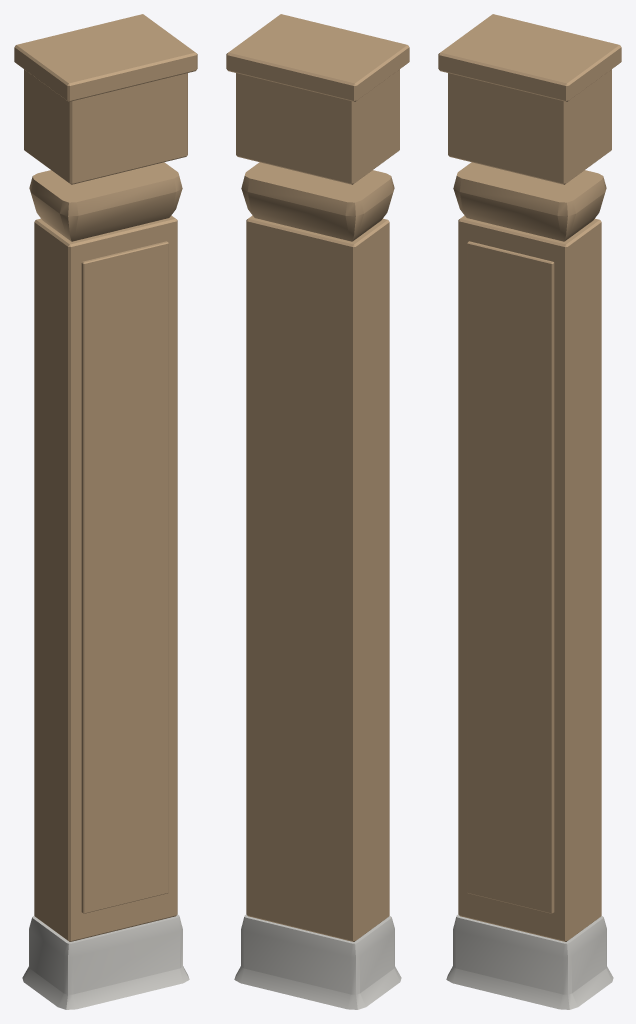
Rendered from bakery-and-cafe-shopfront-pilaster-8e878146__22226.glb.
3 renders of one model, left to right at view 1: azimuth 30°, elevation 25°; view 2: azimuth 150°, elevation 25°; view 3: azimuth 330°, elevation 25°, orthographic.
Parts seen in each view (by area): view 1: shopfront-pilaster; view 2: shopfront-pilaster; view 3: shopfront-pilaster.
Part boxes in pixels (bbox=[...]): shopfront-pilaster: bbox=[14, 14, 197, 1009]; shopfront-pilaster: bbox=[226, 14, 409, 1009]; shopfront-pilaster: bbox=[438, 14, 621, 1009].
Size of the model in its own units: 0.44 by 3 by 0.3199.
